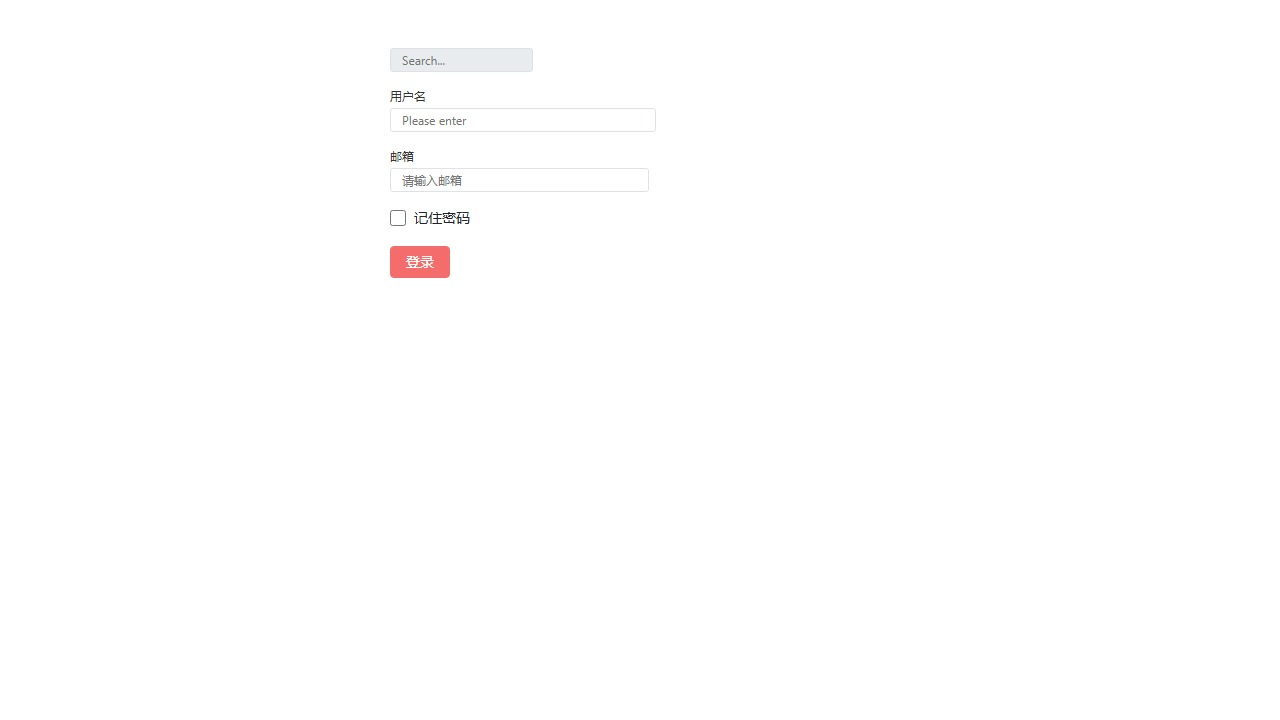button: (390, 245, 450, 277)
checkbox: (390, 209, 406, 225)
icon: (414, 208, 470, 227)
input: (390, 108, 656, 132), (390, 168, 649, 192), (390, 48, 533, 72)
radio: (390, 208, 470, 227)
